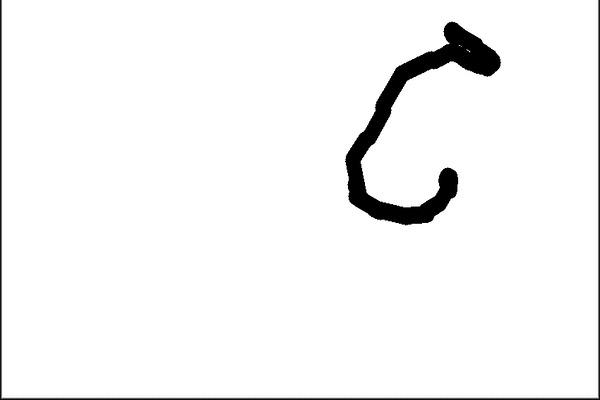C: (338, 16, 504, 232)
